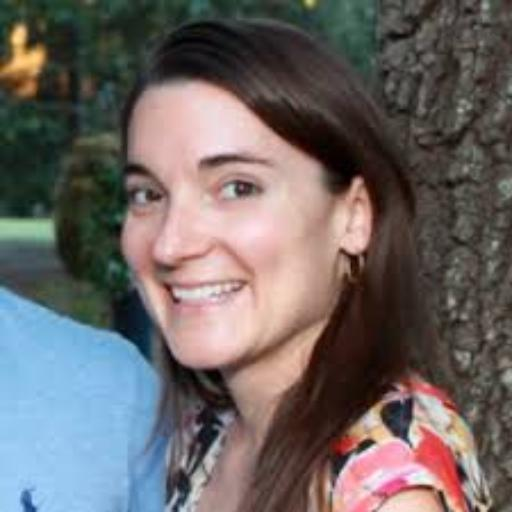left_eye: (209, 179, 268, 206)
left_lip_corner: (233, 277, 254, 298)
right_eye: (128, 187, 167, 210)
right_lip_corner: (155, 278, 171, 297)
